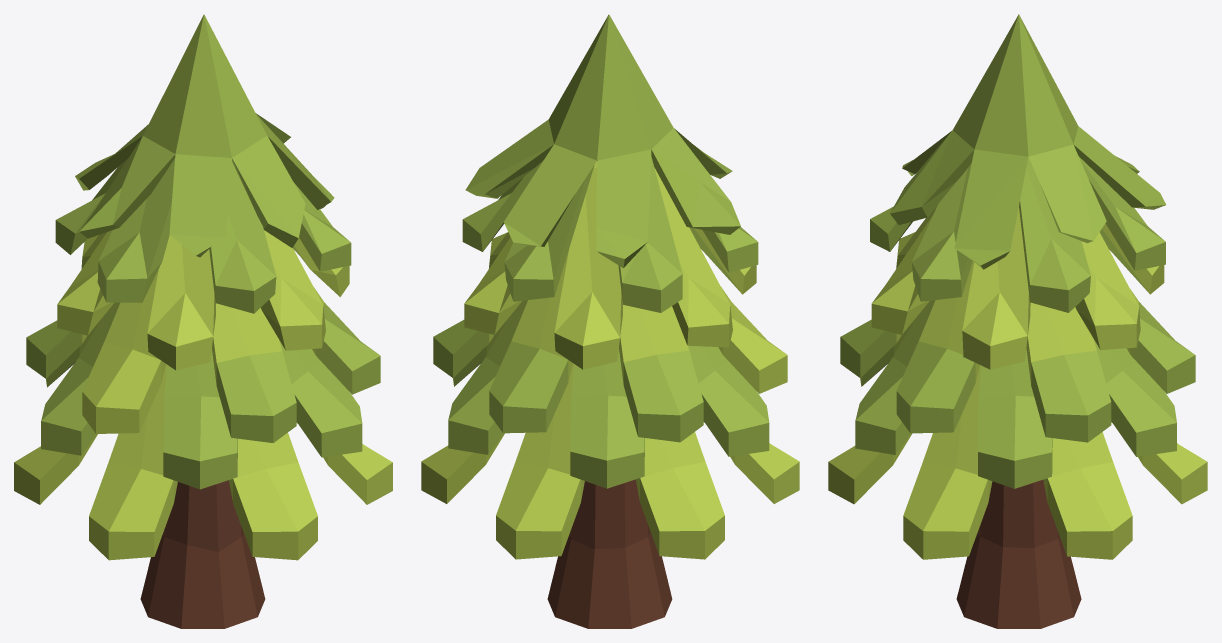
Rendered from TreePine_03.glb.
The picture shows the model from 3 angles, left to right: view 1: azimuth 30°, elevation 25°; view 2: azimuth 150°, elevation 25°; view 3: azimuth 270°, elevation 25°; orthographic projection.
Visible parts, largest first — view 1: TreePine_03; view 2: TreePine_03; view 3: TreePine_03.
Part boxes in pixels (x1,y1,x2,y2): TreePine_03: (14, 14, 392, 628); TreePine_03: (421, 14, 799, 628); TreePine_03: (828, 14, 1207, 628).
Size of what is drawn, in the model's own units: 3.26 by 5.71 by 3.32.
1 material, 1 textured.
